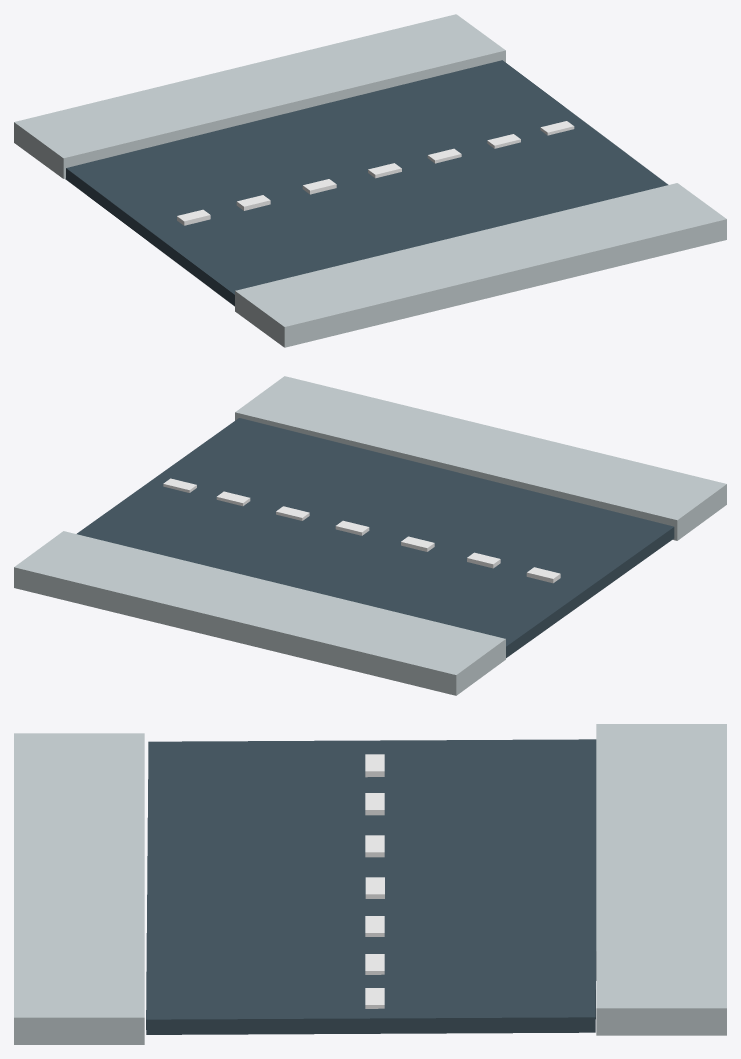
Rendered from Road block.glb.
The picture shows the model from 3 angles, top to bottom: view 1: azimuth 30°, elevation 25°; view 2: azimuth 150°, elevation 25°; view 3: azimuth 270°, elevation 25°; orthographic projection. The views are drawn at different scales.
Parts seen in each view (by area): view 1: group336620870, group444322953, group524283309; view 2: group336620870, group524283309, group444322953; view 3: group336620870, group524283309, group444322953.
Boxes of the visible parts, x1,y1,x2,y2 form: group336620870: (65, 60, 668, 306); group444322953: (235, 183, 726, 347); group524283309: (14, 14, 505, 178); group336620870: (77, 418, 674, 657); group524283309: (14, 531, 505, 695); group444322953: (235, 376, 726, 540); group336620870: (146, 739, 596, 1034); group524283309: (596, 724, 726, 1035); group444322953: (14, 733, 144, 1044).
Bounding box in the file's own units: 0.67 × 0.04 × 0.71.
